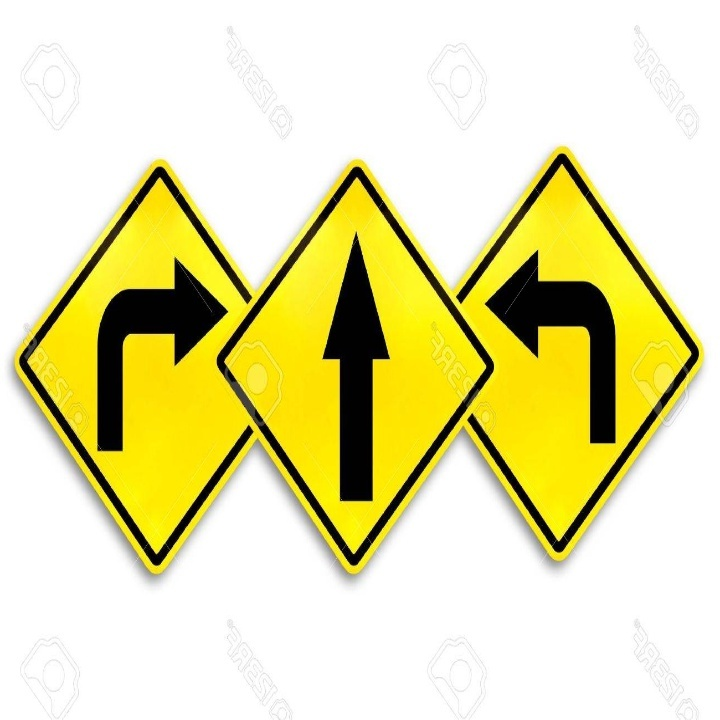right: (76, 249, 237, 458)
